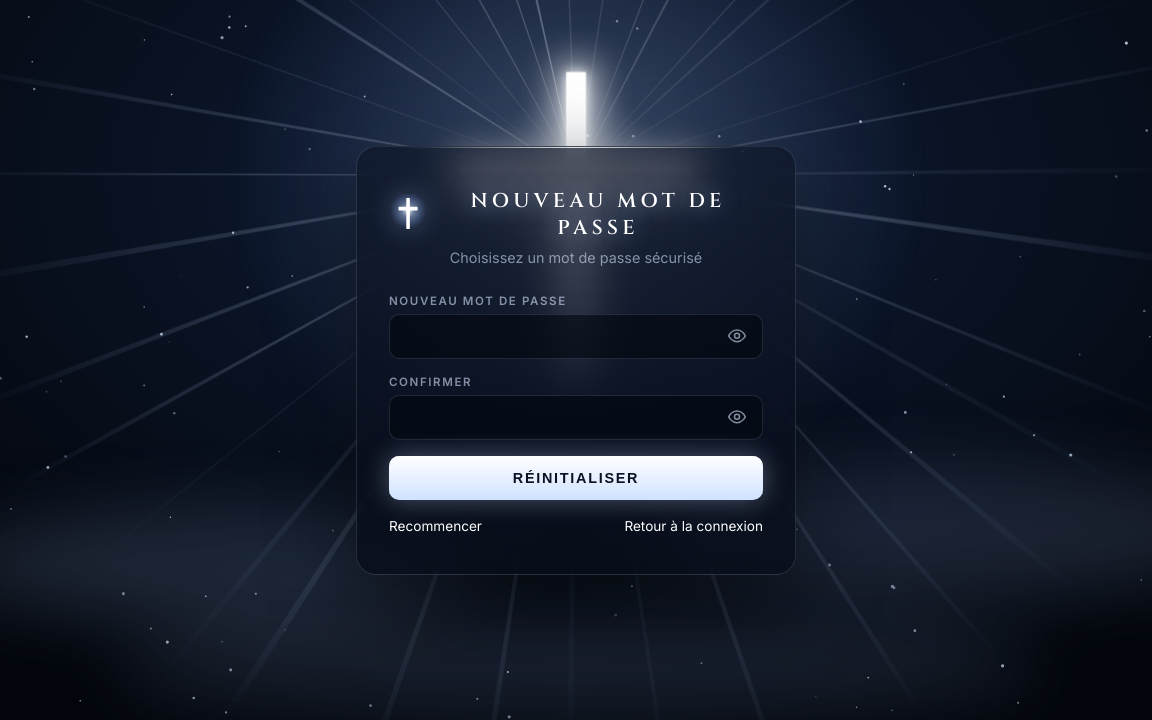
ResetPassword › refuse des mots de passe différents sans appeler l’API
In the password field labelled "Nouveau mot de passe": (576, 336) [389,314,763,358], type "MotDePasse123"
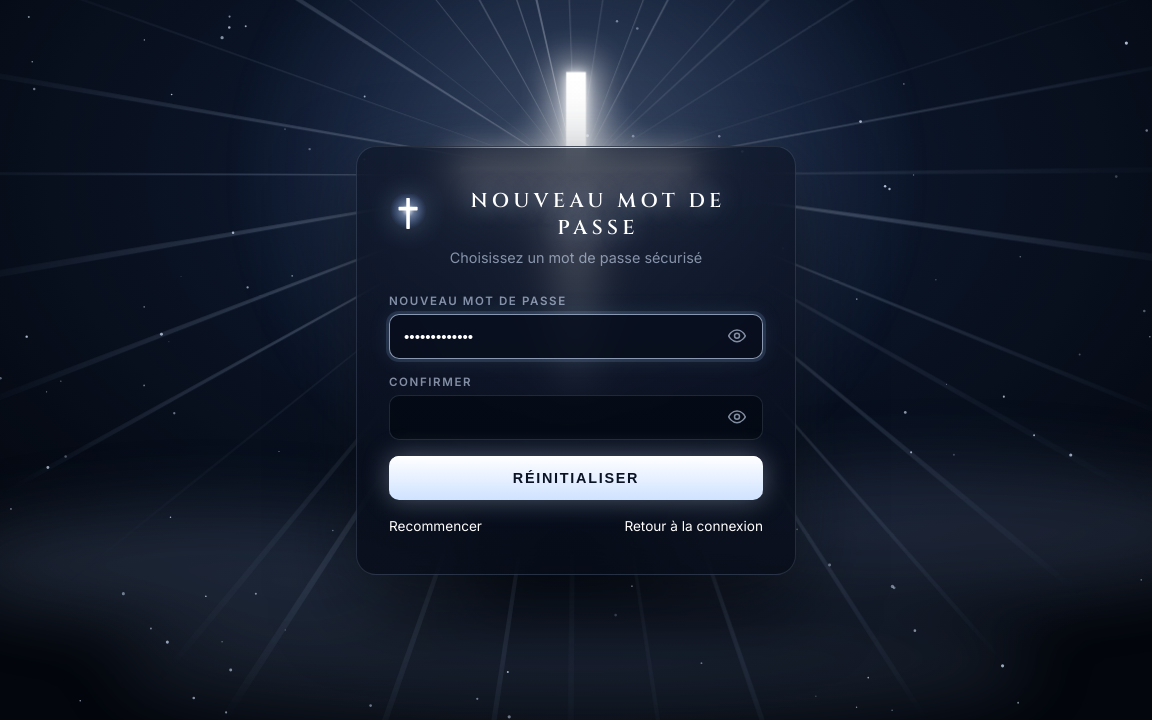
In the password field labelled "Confirmer": (576, 417) [389,394,763,440], type "MotDePasse456"
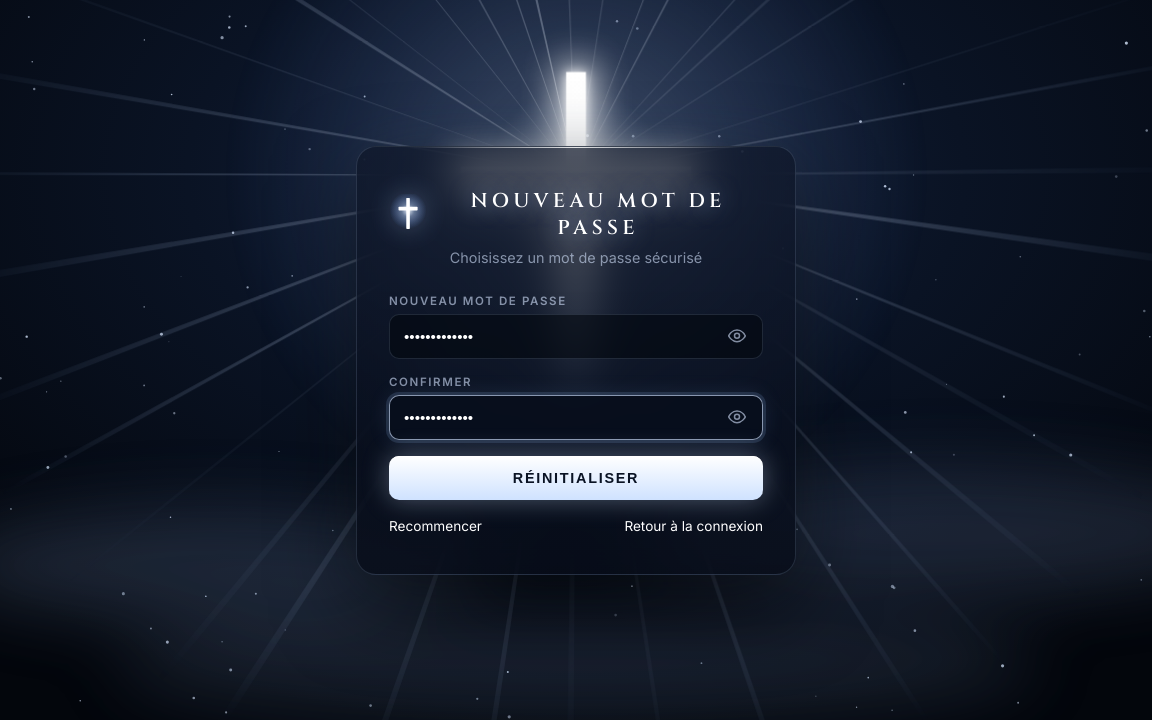
Click the button "Réinitialiser": (576, 478) [389,456,763,500]
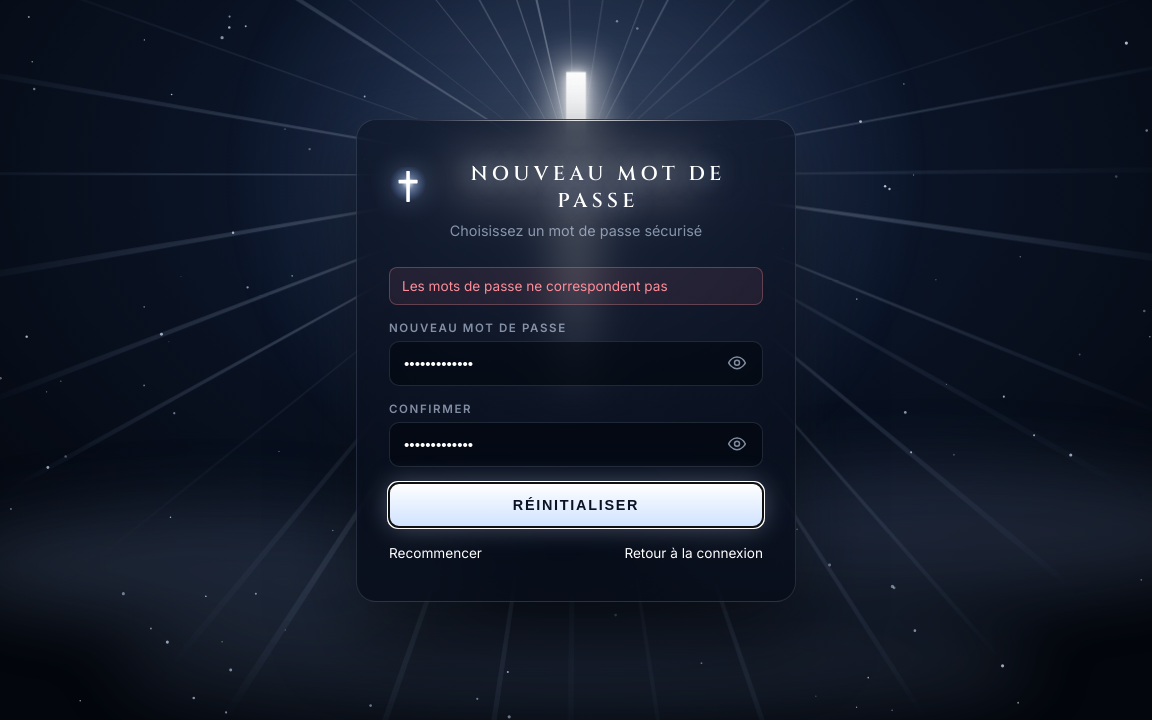
Expected: the text "Les mots de passe ne correspondent pas" is shown, [389,266,763,304]
